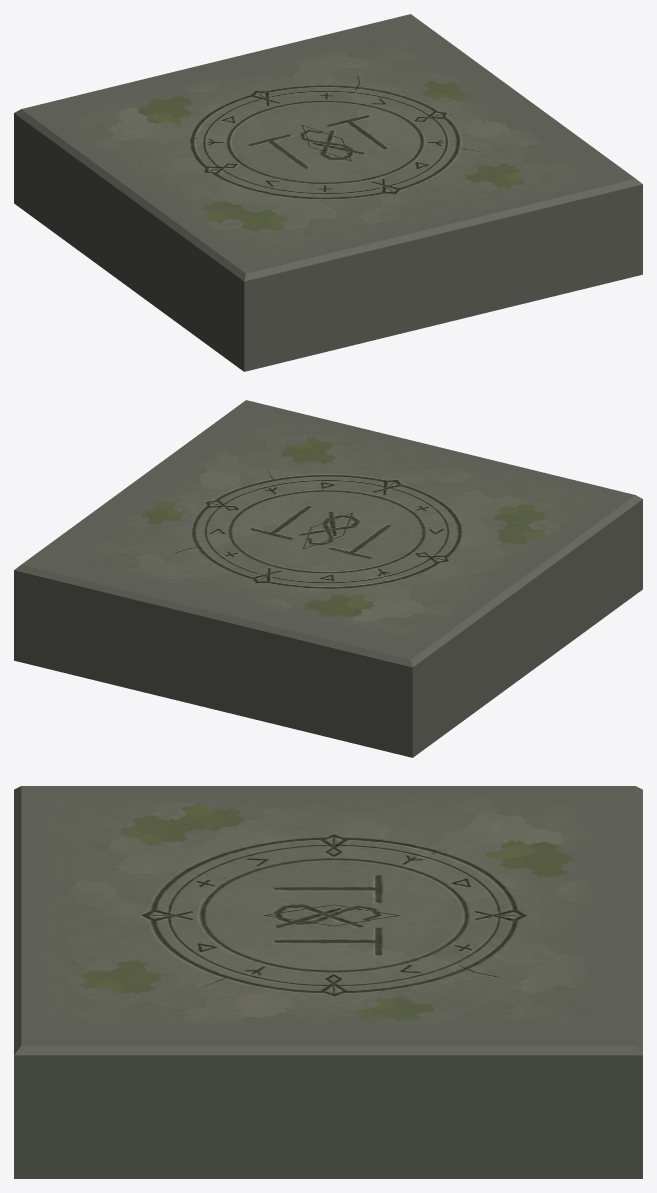
Rendered from Floor02.fbx.
The picture shows the model from 3 angles, top to bottom: view 1: azimuth 30°, elevation 25°; view 2: azimuth 150°, elevation 25°; view 3: azimuth 270°, elevation 25°; orthographic projection. The views are drawn at different scales.
Parts seen in each view (by area): view 1: SM_Floor_02; view 2: SM_Floor_02; view 3: SM_Floor_02.
Part boxes in pixels (bbox=[...]): SM_Floor_02: bbox=[14, 14, 642, 371]; SM_Floor_02: bbox=[14, 400, 642, 757]; SM_Floor_02: bbox=[14, 786, 642, 1178].
Bounding box in the file's own units: 105 × 23.94 × 105.
Materials: 1 (1 with a texture image).
